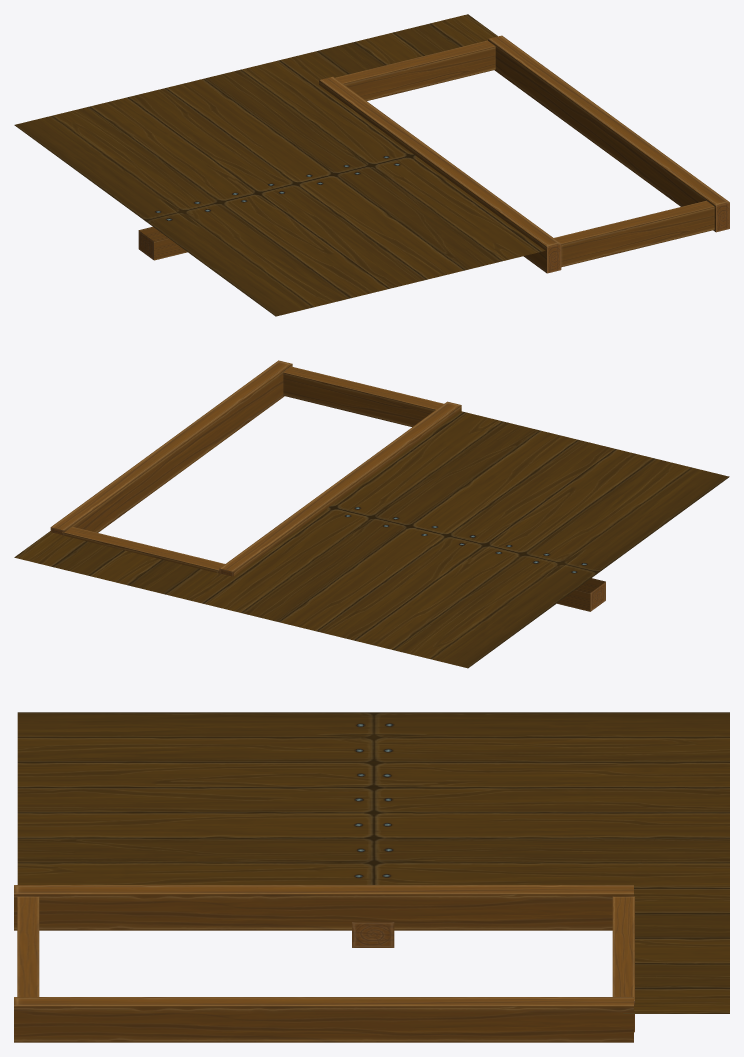
The model's file is SM_House_Floor_5x4_Hatch_02.fbx.
3 views of the same model, one above another, from view 1: azimuth 30°, elevation 25°; view 2: azimuth 150°, elevation 25°; view 3: azimuth 270°, elevation 25° (orthographic). The views are drawn at different scales.
Parts seen in each view (by area): view 1: SM_House_Floor_5x4_Hatch_02; view 2: SM_House_Floor_5x4_Hatch_02; view 3: SM_House_Floor_5x4_Hatch_02.
Boxes of the visible parts, x1,y1,x2,y2 form: SM_House_Floor_5x4_Hatch_02: (14,14,729,316); SM_House_Floor_5x4_Hatch_02: (14,360,729,668); SM_House_Floor_5x4_Hatch_02: (14,712,729,1042).
Size of the model in its own units: 5.01 by 0.411 by 5.03.
